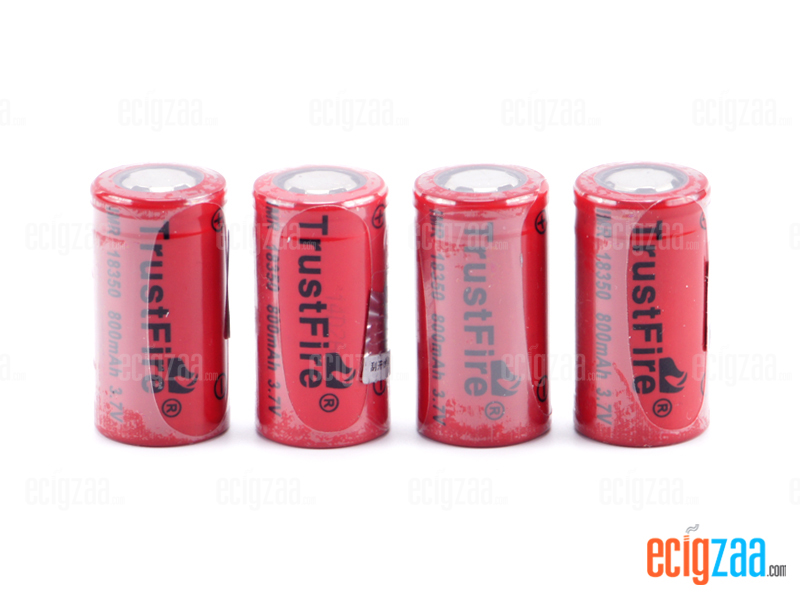Battery: (86, 157, 234, 451), (249, 161, 395, 454), (571, 156, 716, 451), (408, 160, 554, 449)
